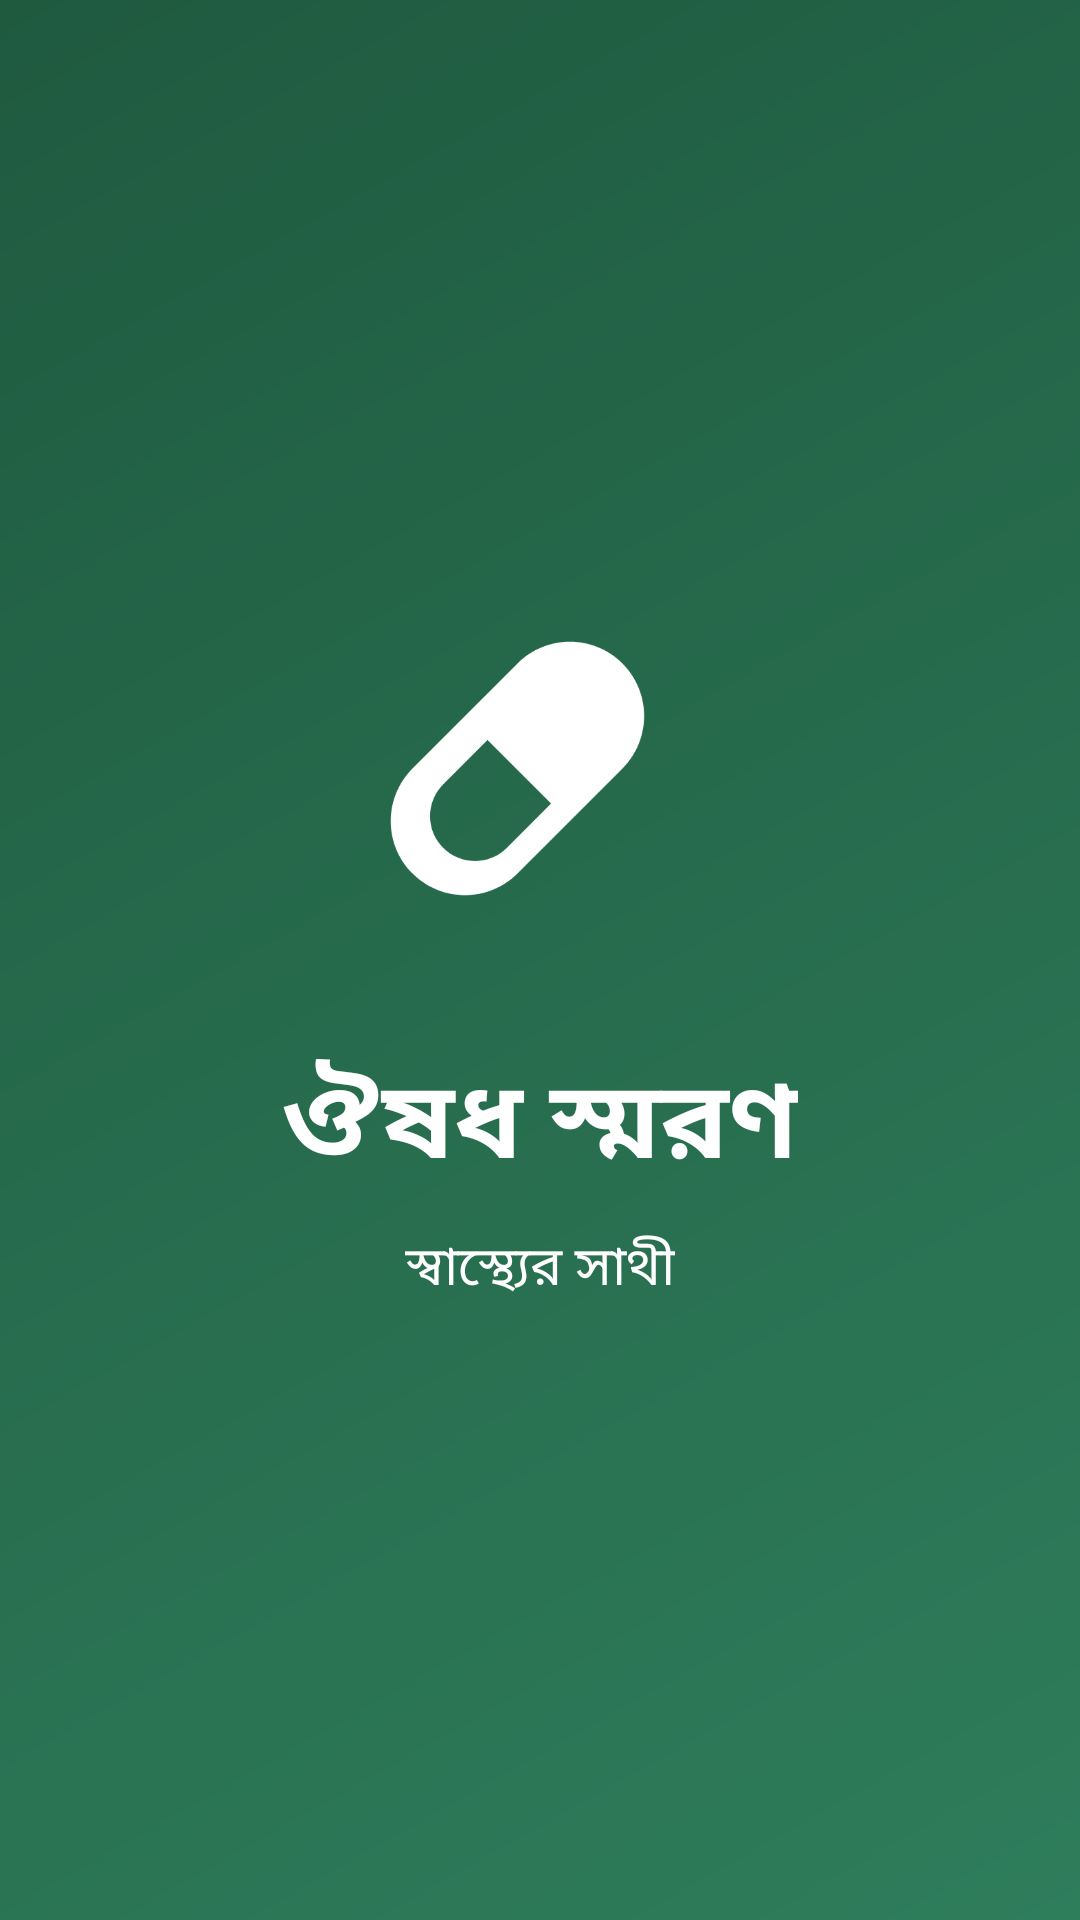

Icon click points for this 1080×1920 phone screenshot, format (x,y):
pill: (517,768)
